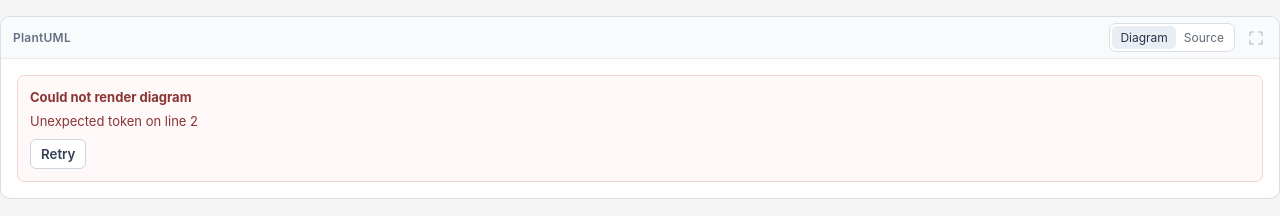
Test: DiagramViewer › shows an accessible error and preserves source when rendering fails
expect the message with test id "diagram-error" shows "Unexpected token on line 2": met, box [30,112,198,128]
Click the button with test id "diagram-source-view".
click(1204, 38)  # box [1176,26,1232,49]
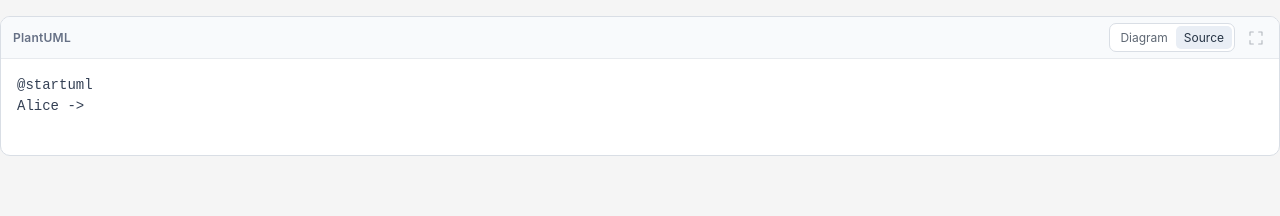
expect the text with test id "diagram-format" reads "PlantUML": met, box [13,30,71,44]
expect the element with test id "diagram-source" shows "Alice ->": met, box [17,77,93,114]
